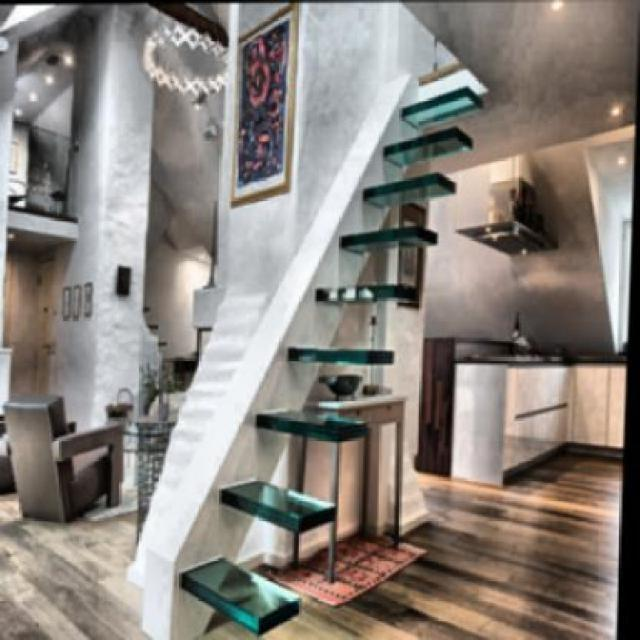stair: (182, 81, 482, 637)
